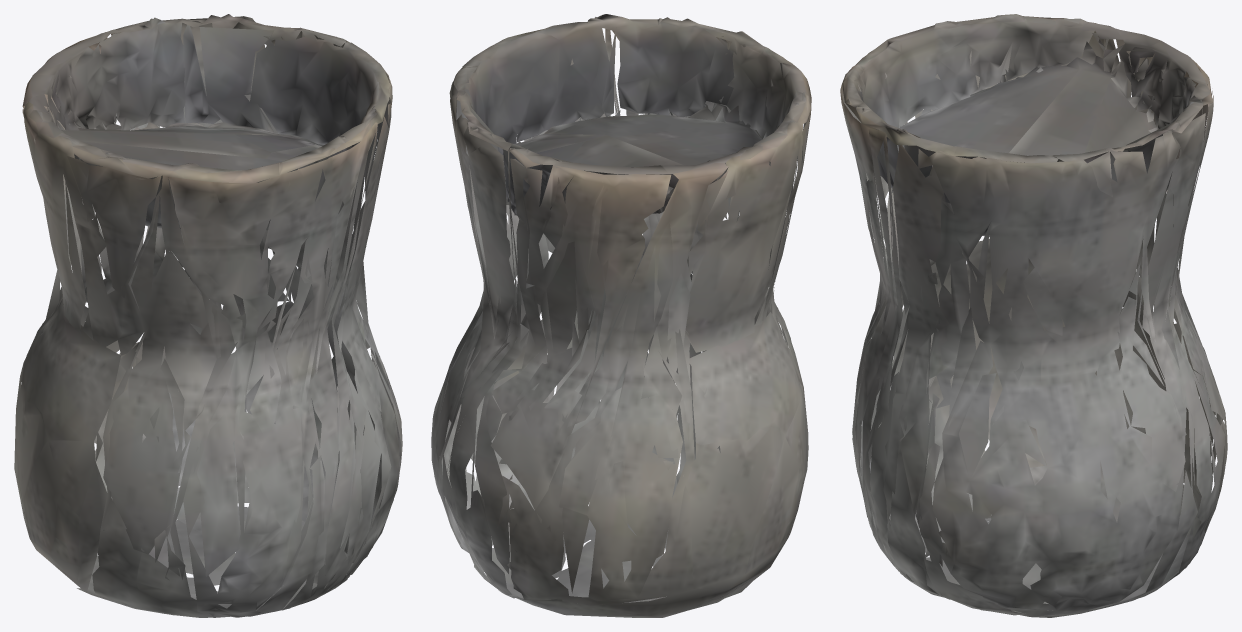
Rendered from hm-replica-beaker-pit-fired.lod1.glb.
3 views of the same model, side by side, from view 1: azimuth 30°, elevation 25°; view 2: azimuth 150°, elevation 25°; view 3: azimuth 270°, elevation 25° (orthographic). The views are drawn at different scales.
Parts seen in each view (by area): view 1: Object_3, Object_2, Object_4, Object_5, Object_6; view 2: Object_2, Object_4, Object_3, Object_5, Object_6; view 3: Object_3, Object_4, Object_2, Object_5, Object_6.
Part boxes in pixels (left/top/right/bottom): Object_3: left=25, top=16, right=401, bottom=617; Object_2: left=20, top=14, right=390, bottom=617; Object_4: left=22, top=25, right=400, bottom=611; Object_5: left=14, top=232, right=402, bottom=616; Object_6: left=26, top=213, right=381, bottom=472; Object_2: left=446, top=14, right=810, bottom=605; Object_4: left=435, top=53, right=808, bottom=602; Object_3: left=431, top=27, right=811, bottom=602; Object_5: left=442, top=215, right=807, bottom=617; Object_6: left=467, top=233, right=804, bottom=457; Object_3: left=840, top=33, right=1226, bottom=611; Object_4: left=841, top=39, right=1225, bottom=615; Object_2: left=842, top=14, right=1227, bottom=616; Object_5: left=852, top=222, right=1226, bottom=617; Object_6: left=861, top=203, right=1205, bottom=428.
Size of the model in its own units: 0.128 by 0.1797 by 0.1299.
Materials: 1 (1 with a texture image).
